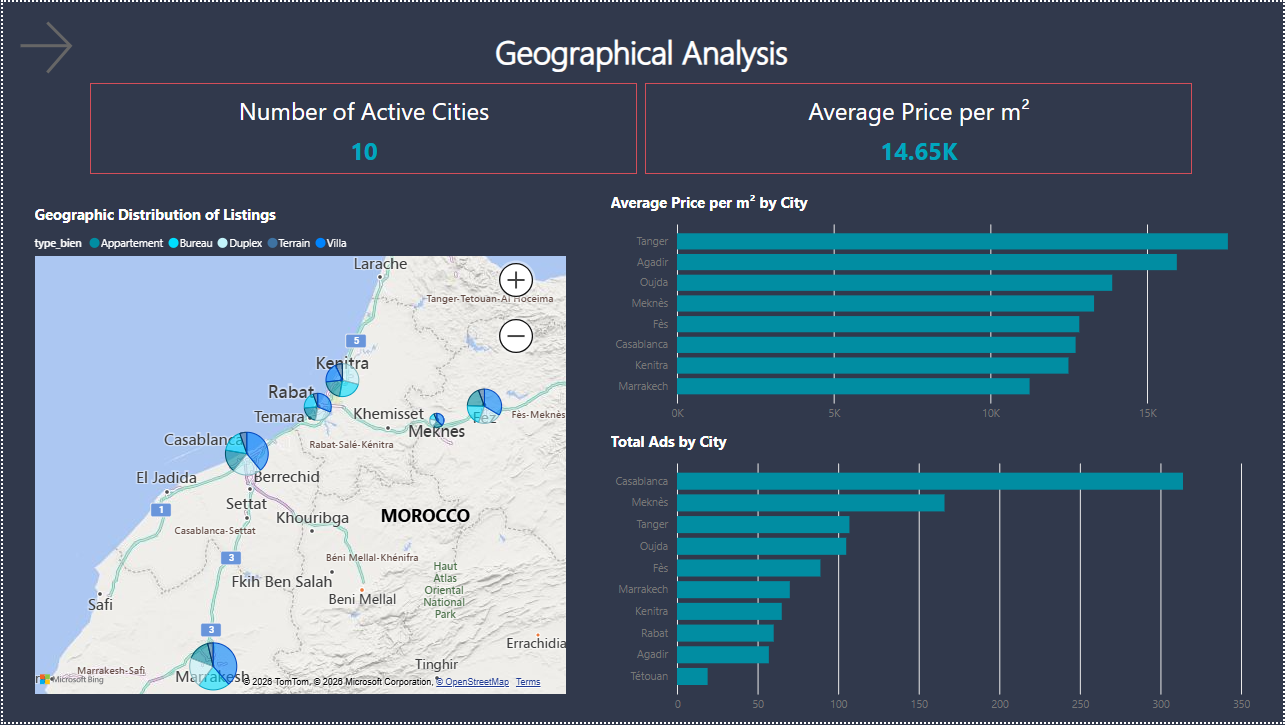

The dashboard page shown, as its layout file describes it:
{"tool":"powerbi","page":{"name":"Geographical Analysis","canvas":[1280,720],"ordinal":2},"visuals":[{"type":"map","title":"Geographic Distribution of Listings","fields":{"Category":["dim_localisation.ville"],"Series":["dim_caracteristiques.type_bien"],"Size":["_Measures.Avg Price per m2"]},"box":[27.4,201.5,541.1,495.1],"z":0},{"type":"clusteredBarChart","title":"Total Ads by City","fields":{"Category":["dim_localisation.ville","dim_localisation.quartier"],"Y":["_Measures.Total Ads"]},"box":[603,428.9,649.3,291.1],"z":1000},{"type":"clusteredBarChart","title":"Average Price per m² by City","fields":{"Y":["_Measures.Avg Price per m2"],"Category":["dim_localisation.ville","dim_localisation.quartier"]},"box":[603,190.4,649.3,238.5],"z":2000},{"type":"cardVisual","fields":{"Data":["Count(dim_localisation.ville)","_Measures.Avg Price per m2"]},"box":[82.1,75.9,1113.3,100.8],"z":3000},{"type":"textbox","box":[467.7,22.4,342.1,70.9],"z":3250},{"type":"actionButton","title":"3 Show Button","box":[9.9,12.7,70.6,65],"z":3500}]}

Visuals, with their boxes in screenshot pixels (x1, y1, x2, y2), scaled from the page's 1280x720 canvas onto the 1285x725 screenshot:
"Geographic Distribution of Listings" map: 28,203,571,701
"Total Ads by City" clusteredBarChart: 605,432,1257,724
"Average Price per m² by City" clusteredBarChart: 605,192,1257,432
cardVisual - Count(dim_localisation.ville) x _Measures.Avg Price per m2: 82,76,1200,178
textbox: 470,23,813,94
"3 Show Button" actionButton: 10,13,81,78
